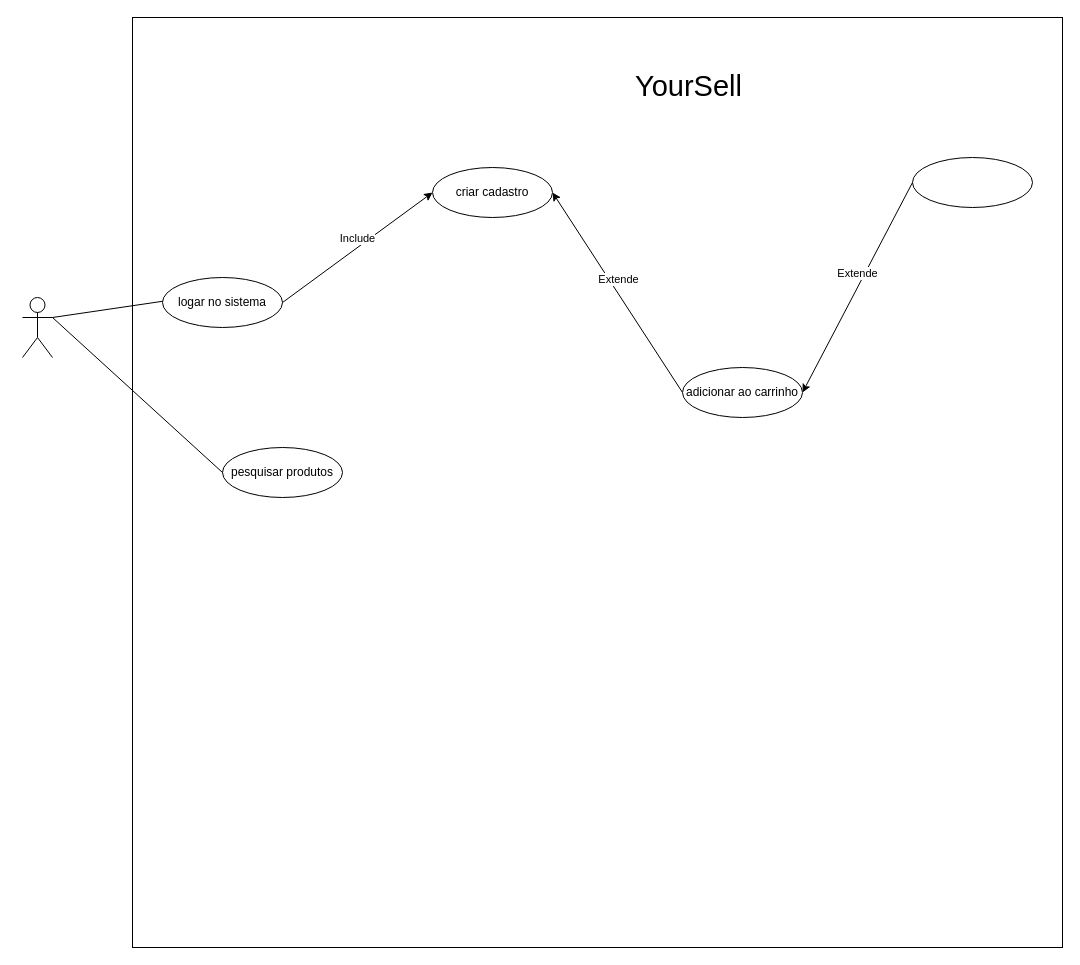
This 1080x965 diagram has some shape labels left out. The centre of each missing label's shape, as x and y in pixels:
"realizar a compra" belongs at (x=972, y=182).
"Usuário" belongs at (x=37, y=327).
